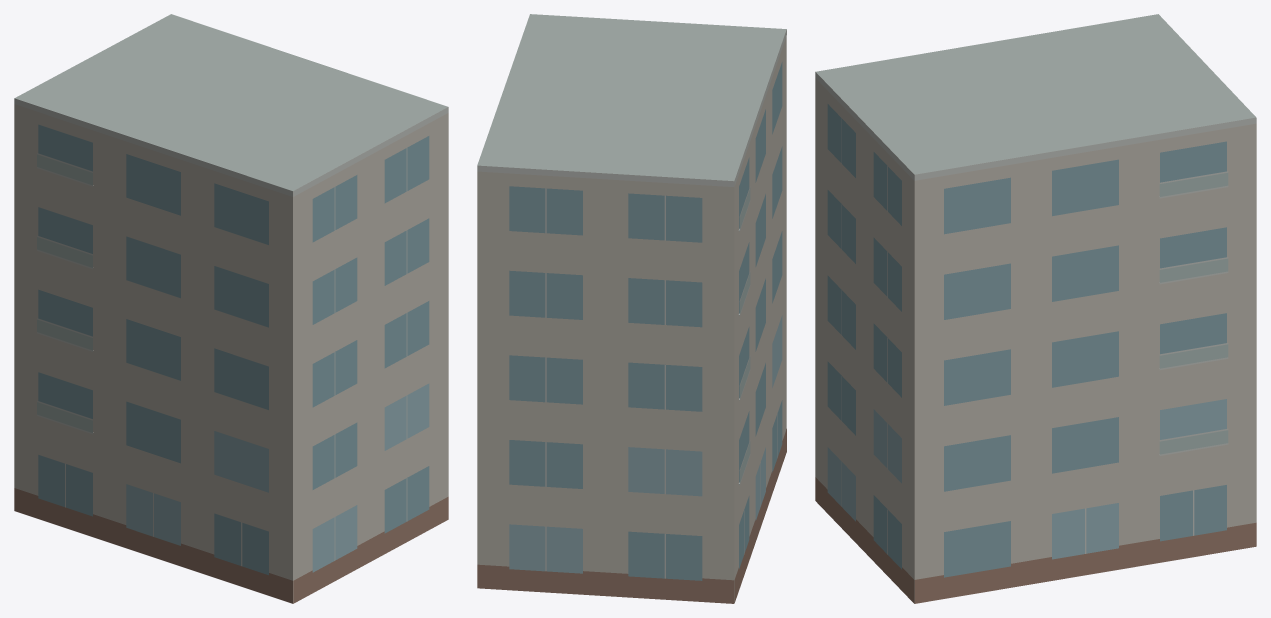
Rendered from survey-upis-33001613.glb.
3 views of the same model, side by side, from view 1: azimuth 30°, elevation 25°; view 2: azimuth 150°, elevation 25°; view 3: azimuth 270°, elevation 25° (orthographic). The views are drawn at different scales.
Parts seen in each view (by area): view 1: survey-upis-33001613.tmp; view 2: survey-upis-33001613.tmp; view 3: survey-upis-33001613.tmp.
Part boxes in pixels (bbox=[...]): survey-upis-33001613.tmp: bbox=[14, 14, 448, 603]; survey-upis-33001613.tmp: bbox=[477, 14, 786, 603]; survey-upis-33001613.tmp: bbox=[815, 14, 1256, 603].
Size of the model in its own units: 13.83 by 17.2 by 16.03.
